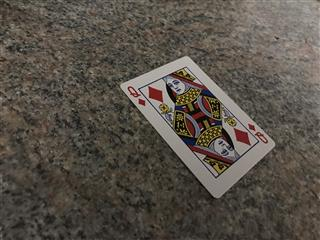QueenOfDiamonds: (118, 54, 275, 199)
